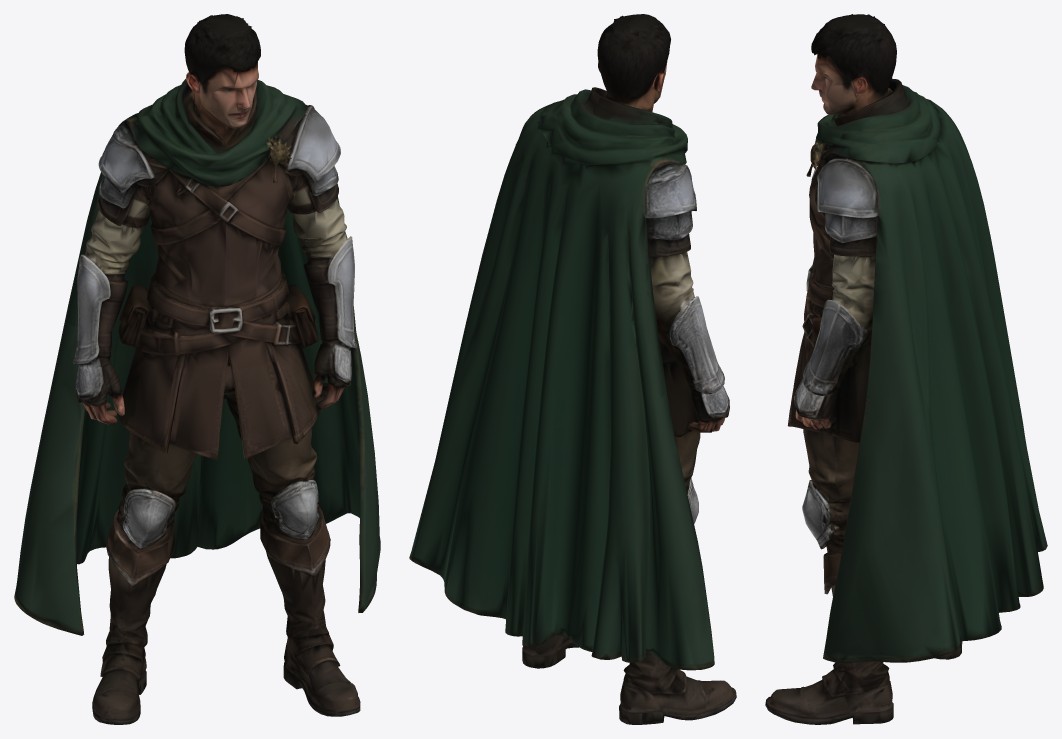
File: character.obj
3 renders of one model, left to right at view 1: azimuth 30°, elevation 25°; view 2: azimuth 150°, elevation 25°; view 3: azimuth 270°, elevation 25°, orthographic. The views are drawn at different scales.
Parts seen in each view (by area): view 1: character; view 2: character; view 3: character.
Boxes of the visible parts, <box> form: character: <box>14,14,380,724</box>; character: <box>409,14,736,724</box>; character: <box>765,14,1047,724</box>.
Size of the model in its own units: 0.5593 by 1.11 by 0.4339.
